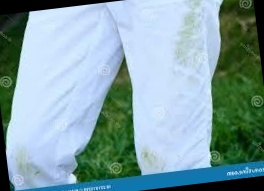earth: (171, 16, 205, 73), (139, 146, 163, 169), (15, 150, 36, 175), (184, 0, 202, 17)
